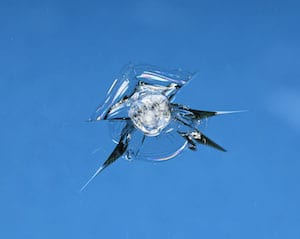bullseye: (67, 49, 260, 203)
